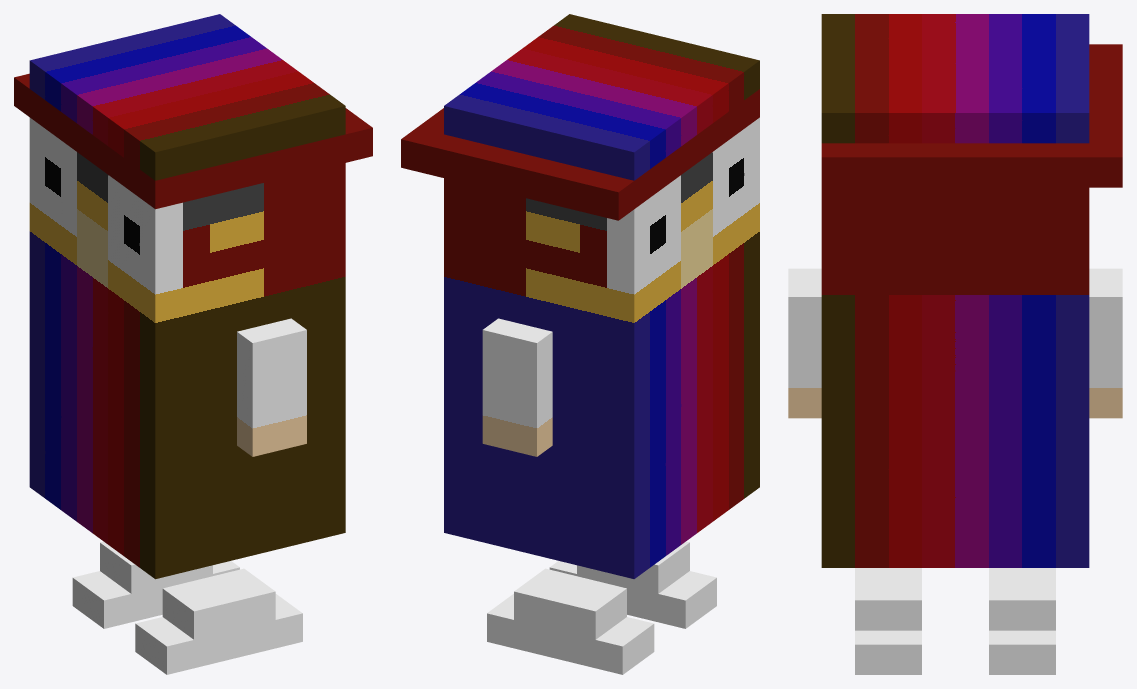
File: Player_21.fbx
3 views of the same model, side by side, from view 1: azimuth 30°, elevation 25°; view 2: azimuth 150°, elevation 25°; view 3: azimuth 270°, elevation 25° (orthographic). The views are drawn at different scales.
Visible parts, largest first — view 1: Main, LeftFoot, LeftHand, RightFoot; view 2: Main, RightFoot, RightHand, LeftFoot; view 3: Main, LeftFoot, RightFoot, RightHand, LeftHand.
Part boxes in pixels (left/top/right/bottom): Main: left=14, top=14, right=372, bottom=579; LeftFoot: left=135, top=568, right=302, bottom=674; LeftHand: left=237, top=318, right=306, bottom=456; RightFoot: left=72, top=541, right=239, bottom=628; Main: left=401, top=14, right=759, bottom=578; RightFoot: left=487, top=568, right=654, bottom=674; RightHand: left=482, top=318, right=552, bottom=456; LeftFoot: left=549, top=541, right=716, bottom=628; Main: left=821, top=14, right=1122, bottom=567; LeftFoot: left=855, top=568, right=921, bottom=674; RightFoot: left=989, top=568, right=1055, bottom=674; RightHand: left=1089, top=268, right=1122, bottom=418; LeftHand: left=788, top=268, right=821, bottom=418.
Size of the model in its own units: 8 by 19 by 10.
Materials: 1 (1 with a texture image).
